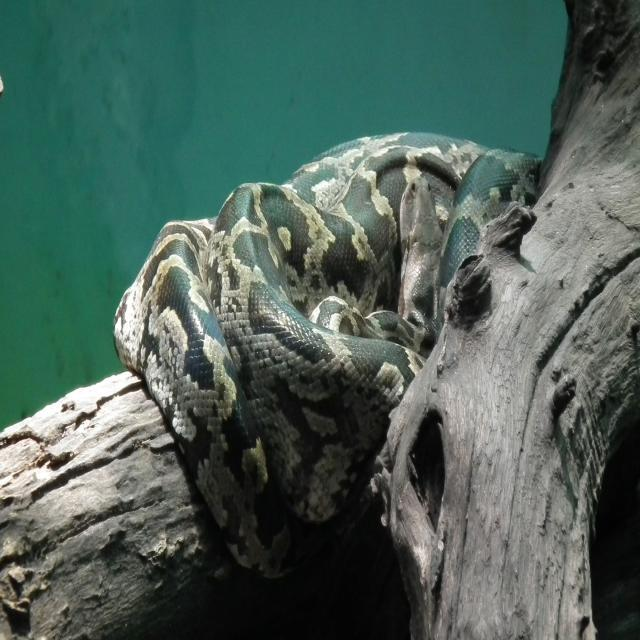Snake: (112, 130, 543, 580)
